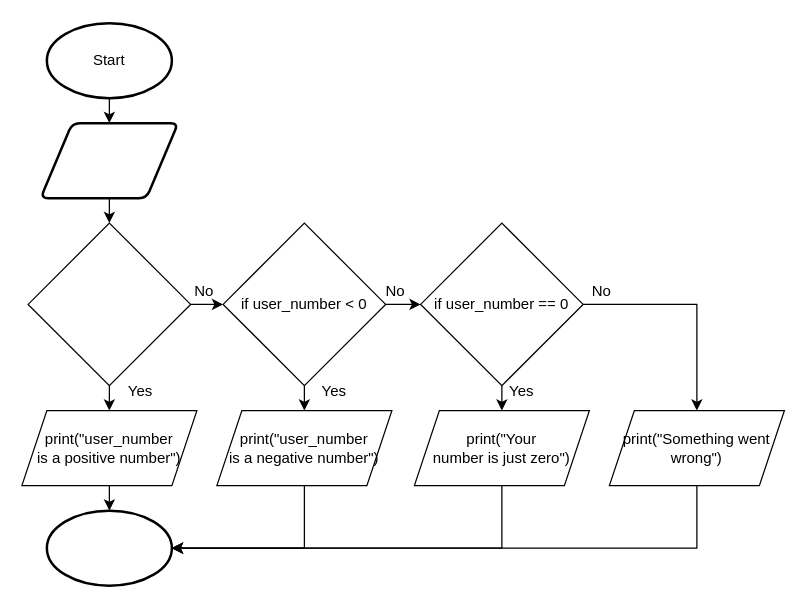
Some shapes in this 806 by 608 pixel diagram are drawn without their labels. Here are the shapes that lost their labels. From the top down, the centre of each, then its label:
At pixel 109 160: "Get user_number".
At pixel 109 304: "if user_number > 0".
At pixel 108 547: "Stop".
